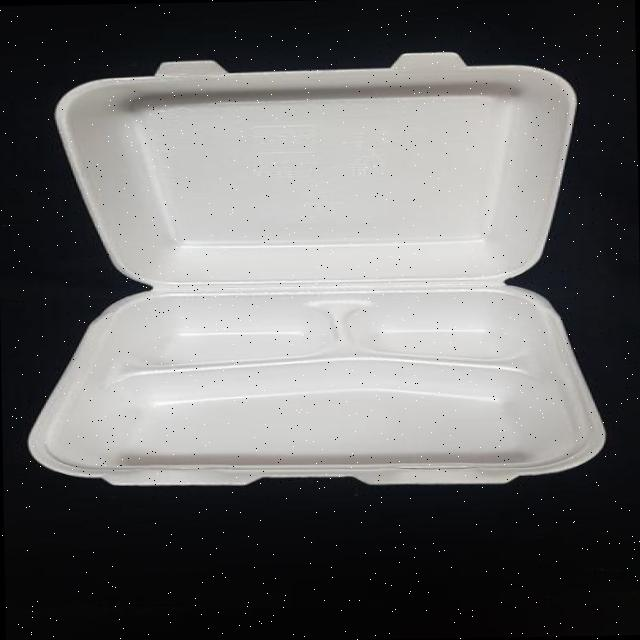styrofoam: (18, 47, 607, 492)
